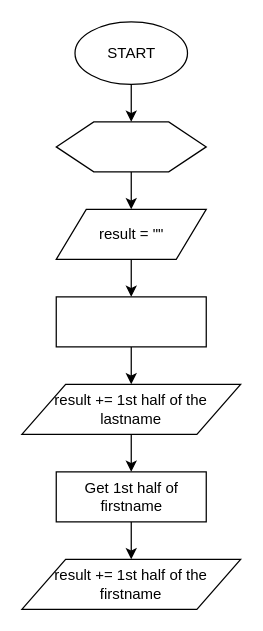
This 263x631 diagram has some shape labels left out. The centre of each missing label's shape, as x and y in pixels:
"Declare result" goes at (x=130, y=146).
"Get 1st half of lastname" goes at (x=130, y=321).
